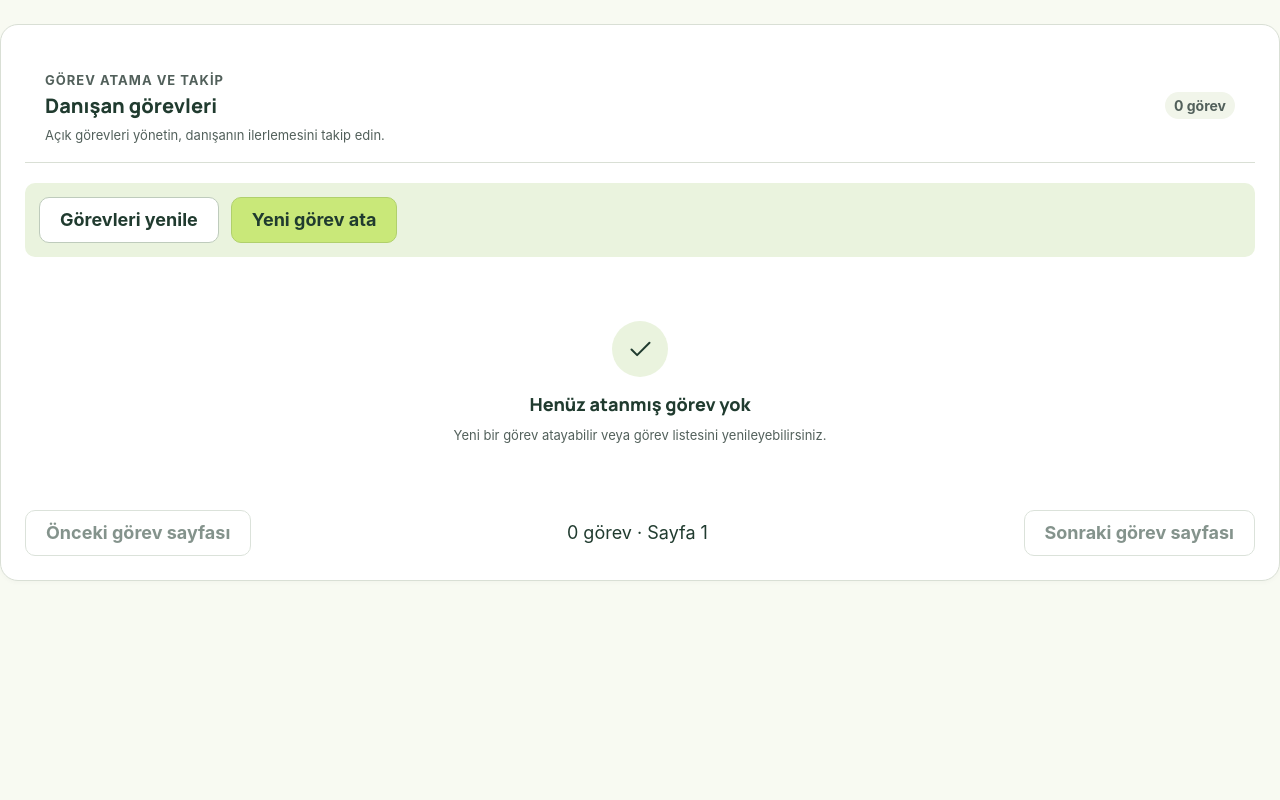
React task assignment and tracking › shows empty state then creates and assigns a real-contract task with a local deadline
Expected: the heading "Henüz atanmış görev yok" is shown, [530, 393, 750, 416]
Click the button "Yeni görev ata". click: (314, 220)
box: [231, 197, 397, 243]
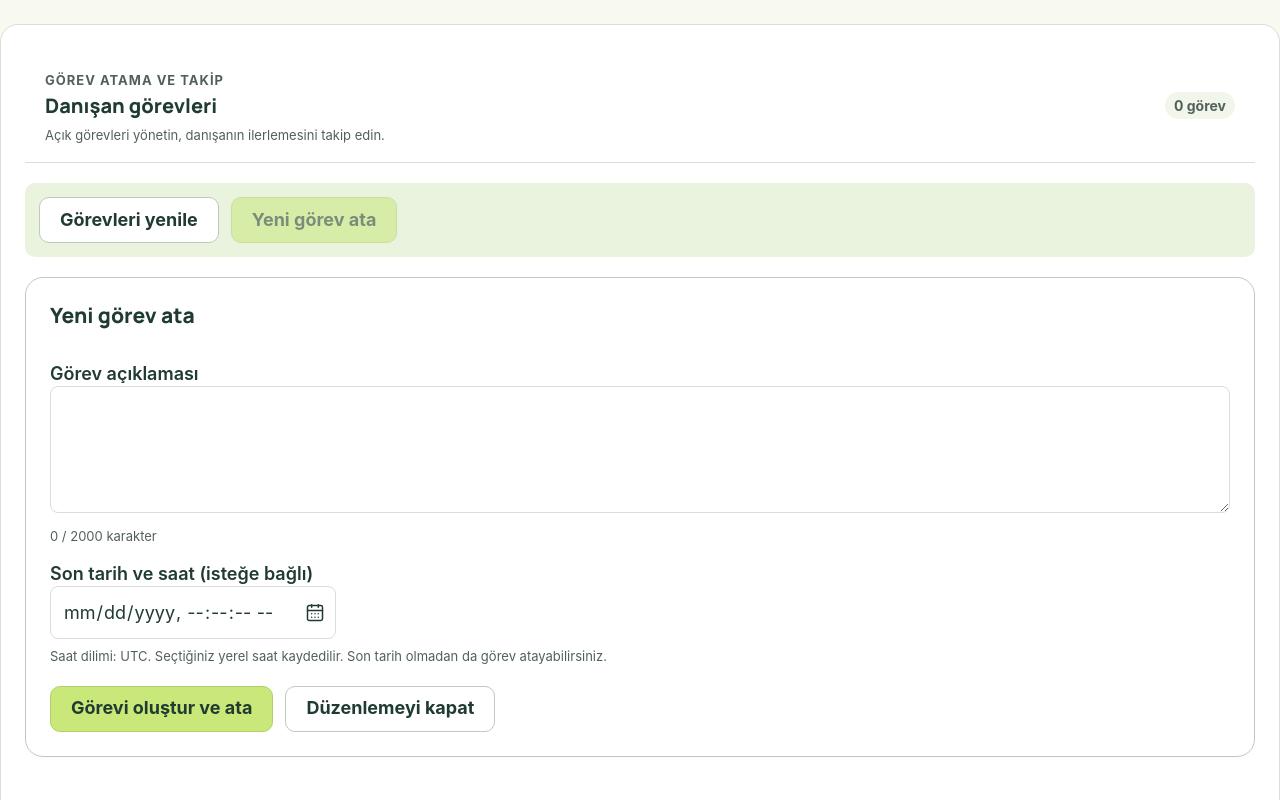
Type "Sentetik özel görev" into the text box labelled "Görev açıklaması". click: (640, 449)
box: [50, 386, 1230, 513]
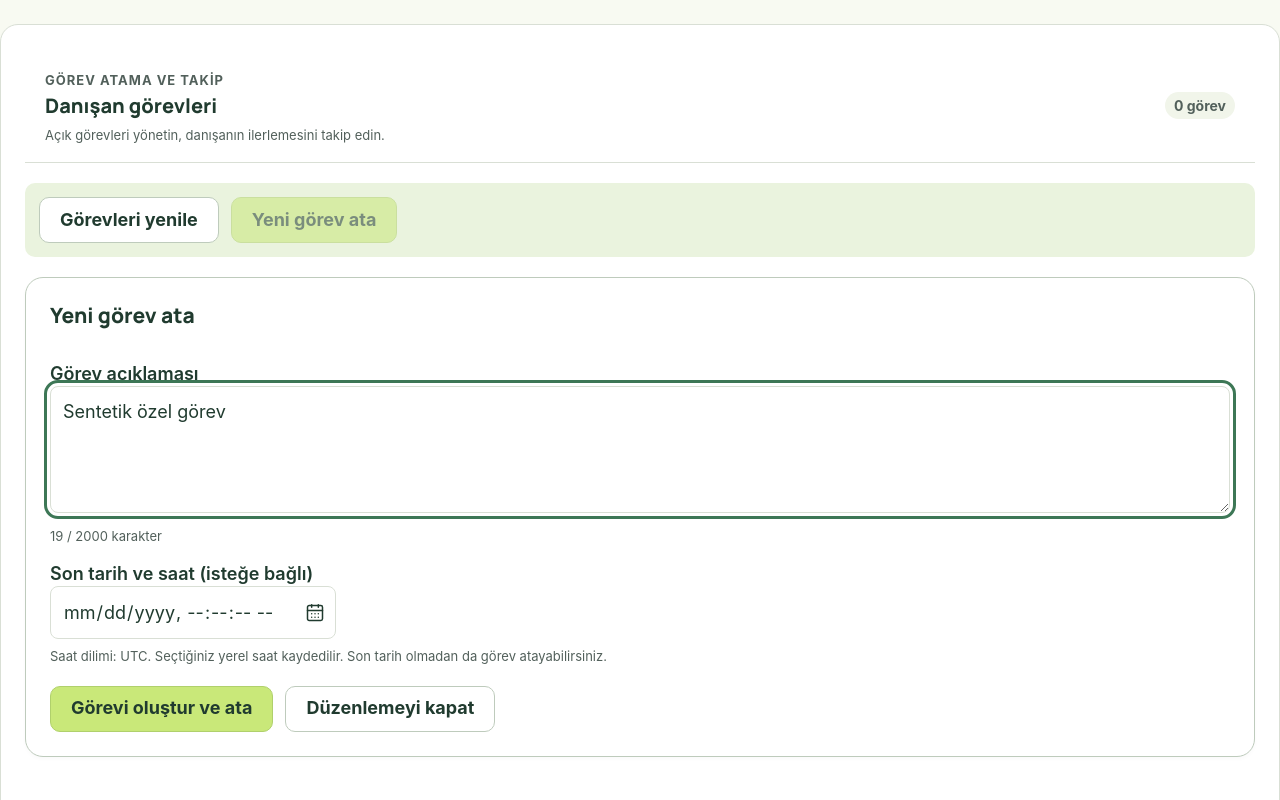
Type "2030-06-15T15:30" into the field labelled "Son tarih ve saat (isteğe bağlı)". click: (193, 613)
box: [50, 586, 336, 639]
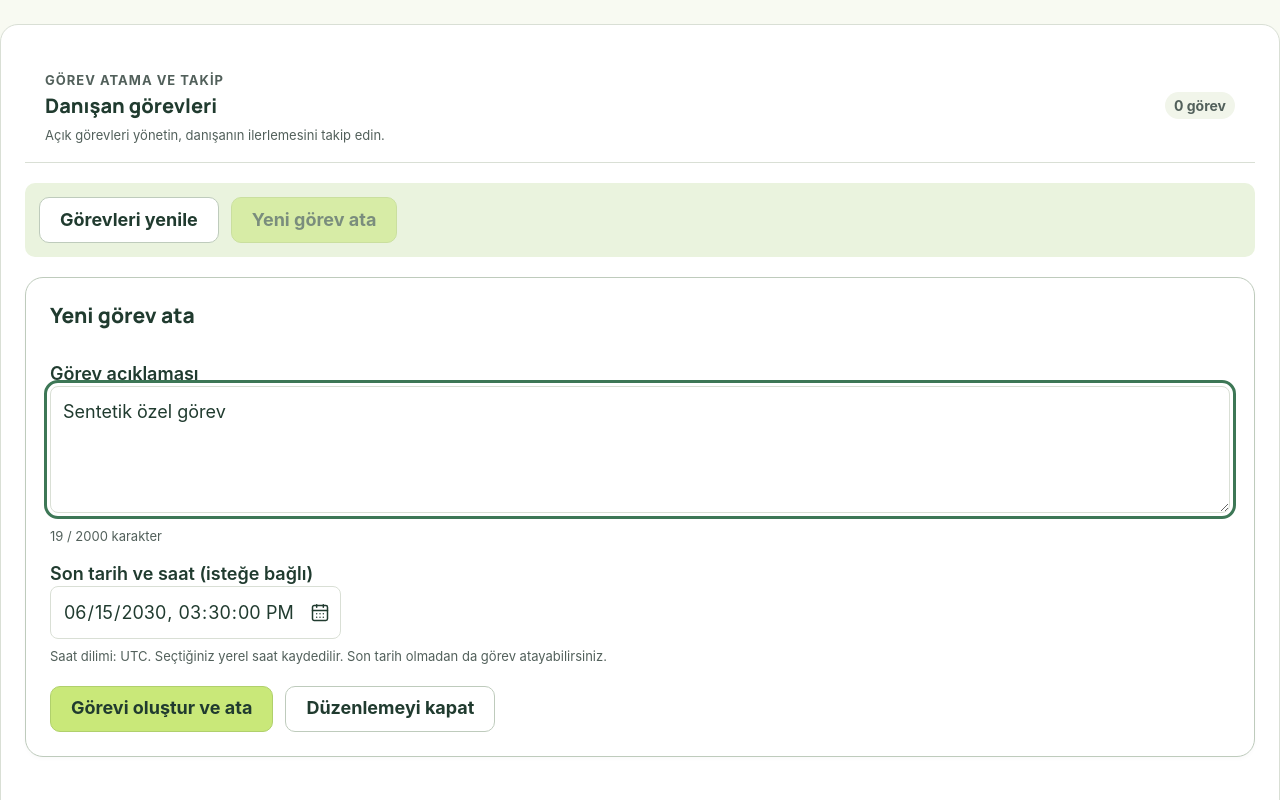
Click the button "Görevi oluştur ve ata". click: (162, 708)
box: [50, 686, 273, 732]
(page scrolled)
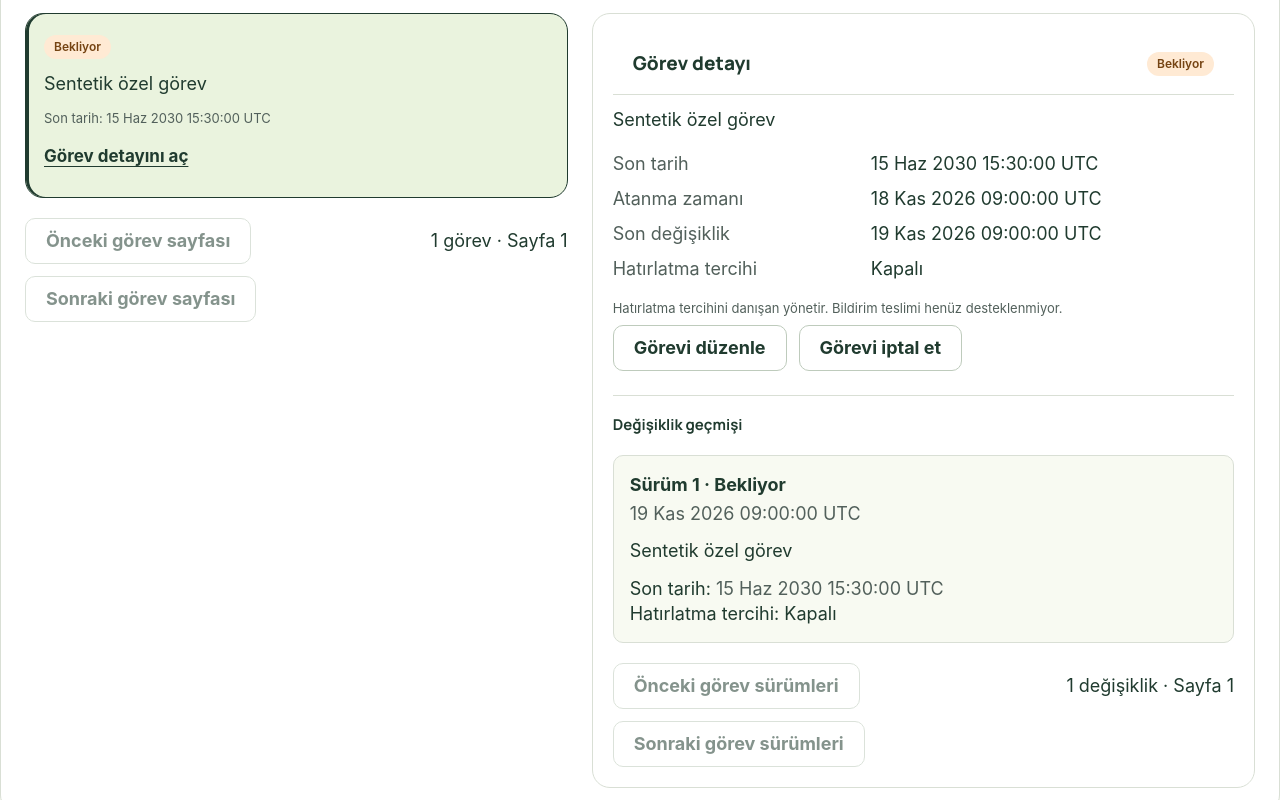
Result: the element "Görev detayı" shows "Bekliyor" at [1157, 56, 1204, 71]
